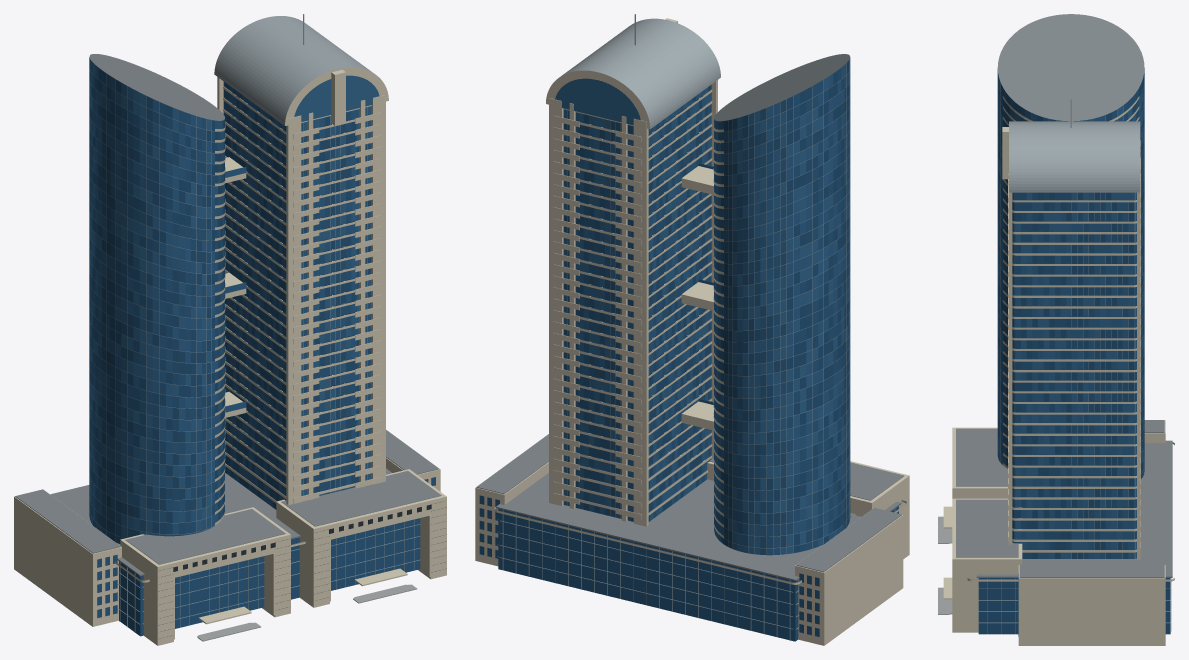
The model's file is ktz-r3-draco.glb.
The picture shows the model from 3 angles, left to right: view 1: azimuth 30°, elevation 25°; view 2: azimuth 150°, elevation 25°; view 3: azimuth 270°, elevation 25°; orthographic projection. The views are drawn at different scales.
Visible parts, largest first — view 1: KTZ stone, KTZ glass0, KTZ glass2, KTZ glass3, KTZ glass1, KTZ podium stone, KTZ frame, KTZ podium roof, KTZ podium glass0, KTZ roof, KTZ podium frame, KTZ podium paving (+1 smaller); view 2: KTZ stone, KTZ glass2, KTZ glass0, KTZ glass3, KTZ glass1, KTZ frame, KTZ podium glass0, KTZ podium roof, KTZ podium stone, KTZ podium frame, KTZ roof; view 3: KTZ stone, KTZ podium stone, KTZ glass0, KTZ glass1, KTZ podium roof, KTZ glass2, KTZ roof, KTZ frame, KTZ glass3, KTZ podium glass0, KTZ podium paving, KTZ podium frame.
Part boxes in pixels (x1,y1,x2,y2): KTZ stone: (115, 67, 388, 582); KTZ glass0: (89, 59, 371, 543); KTZ glass2: (89, 63, 379, 538); KTZ glass3: (89, 57, 371, 541); KTZ glass1: (89, 65, 371, 536); KTZ podium stone: (14, 435, 446, 645); KTZ frame: (90, 14, 372, 580); KTZ podium roof: (15, 417, 441, 576); KTZ podium glass0: (97, 477, 435, 636); KTZ roof: (89, 54, 286, 462); KTZ podium frame: (118, 520, 420, 632); KTZ podium paving: (197, 584, 417, 641); KTZ stone: (494, 18, 906, 584); KTZ glass2: (555, 57, 850, 554); KTZ glass0: (563, 68, 850, 551); KTZ glass3: (563, 61, 850, 555); KTZ glass1: (563, 59, 850, 555); KTZ frame: (495, 14, 905, 582); KTZ podium glass0: (479, 495, 898, 641); KTZ podium roof: (476, 416, 904, 581); KTZ podium stone: (475, 436, 909, 645); KTZ podium frame: (497, 509, 895, 640); KTZ roof: (606, 54, 849, 496); KTZ stone: (967, 96, 1174, 581); KTZ podium stone: (943, 420, 1165, 645); KTZ glass0: (997, 73, 1144, 558); KTZ glass1: (997, 69, 1144, 558); KTZ podium roof: (956, 420, 1172, 577); KTZ glass2: (997, 68, 1144, 558); KTZ roof: (997, 14, 1144, 121); KTZ frame: (968, 83, 1173, 579); KTZ glass3: (997, 73, 1144, 558); KTZ podium glass0: (978, 573, 1170, 636); KTZ podium paving: (938, 516, 952, 614); KTZ podium frame: (977, 578, 1171, 633).
Size of the model in its own units: 107 by 157 by 67.81.
